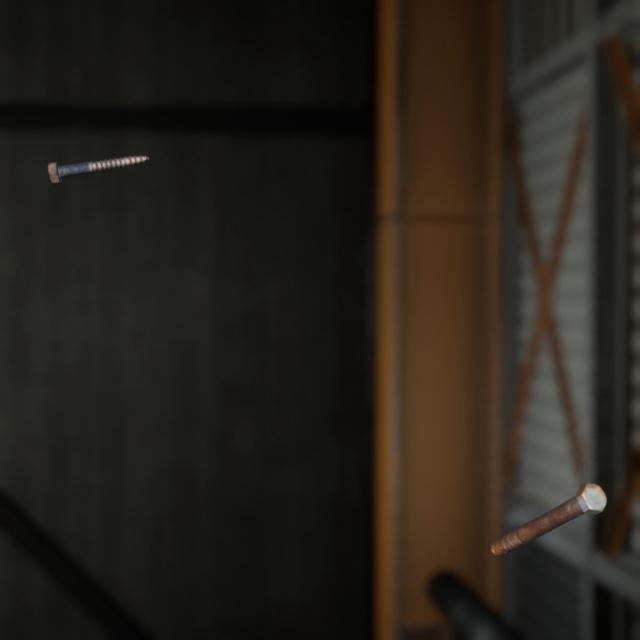bolt: (484, 455, 611, 540), (43, 137, 154, 175)
